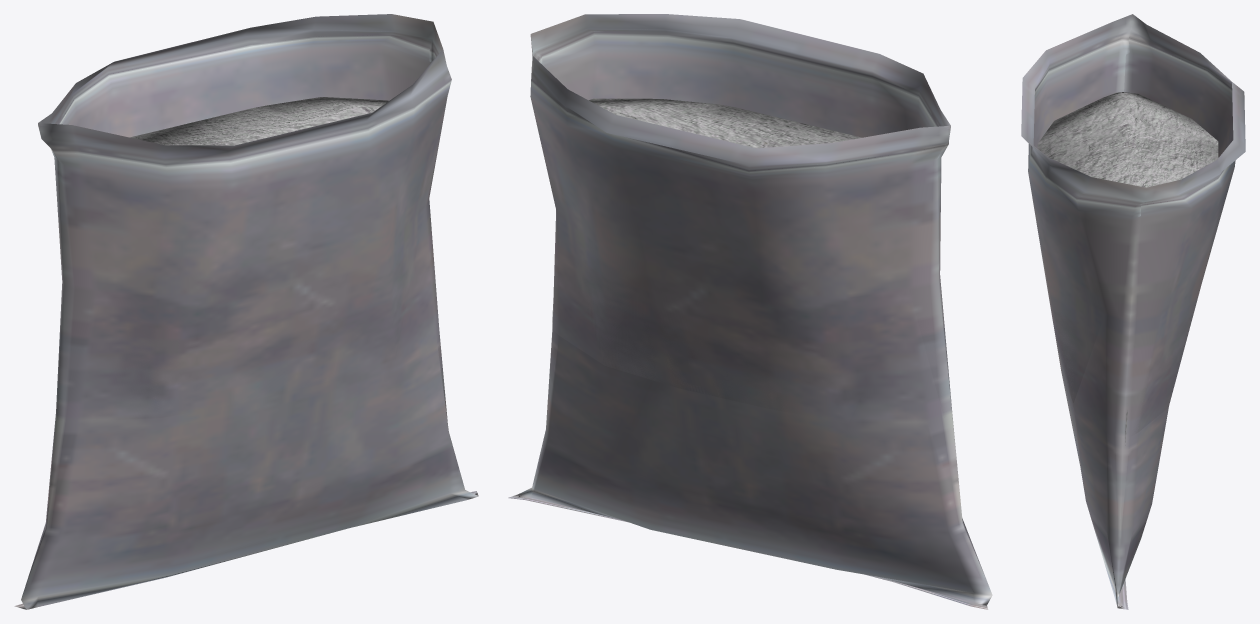
Rendered from Coke Bag.fbx.
3 renders of one model, left to right at view 1: azimuth 30°, elevation 25°; view 2: azimuth 150°, elevation 25°; view 3: azimuth 270°, elevation 25°, orthographic. The views are drawn at different scales.
Visible parts, largest first — view 1: Coke Bag; view 2: Coke Bag; view 3: Coke Bag.
Boxes of the visible parts, left/top/right/bottom form: Coke Bag: left=14, top=14, right=478, bottom=609; Coke Bag: left=508, top=14, right=992, bottom=609; Coke Bag: left=1021, top=14, right=1245, bottom=609.
Bounding box in the file's own units: 16.6 × 16.11 × 7.96.
Materials: 2 (2 with a texture image).
